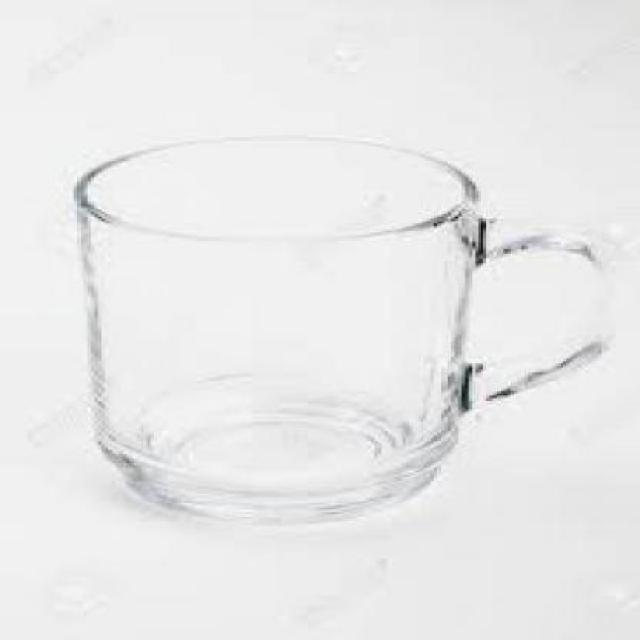kaca: (71, 133, 606, 522)
